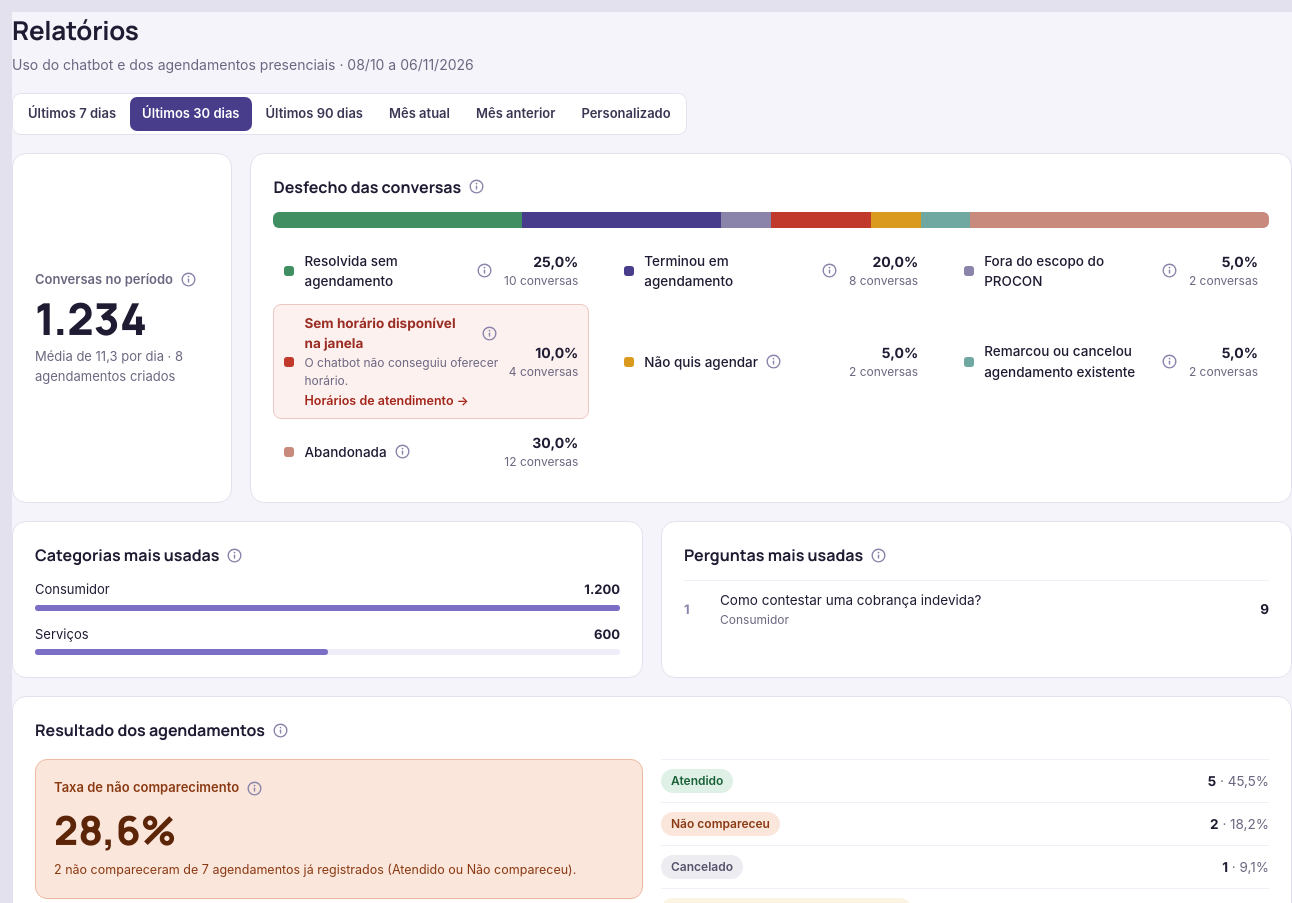
Reports: cartão Conversas no período › explica o que é uma conversa em um tooltip
This screenshot has width=1292, height=903.
Expected: the heading "Desfecho das conversas" is shown, [274,176,486,198]
Click the button named "Definição de conversas no período" at (188, 279), box [179,272,198,287]
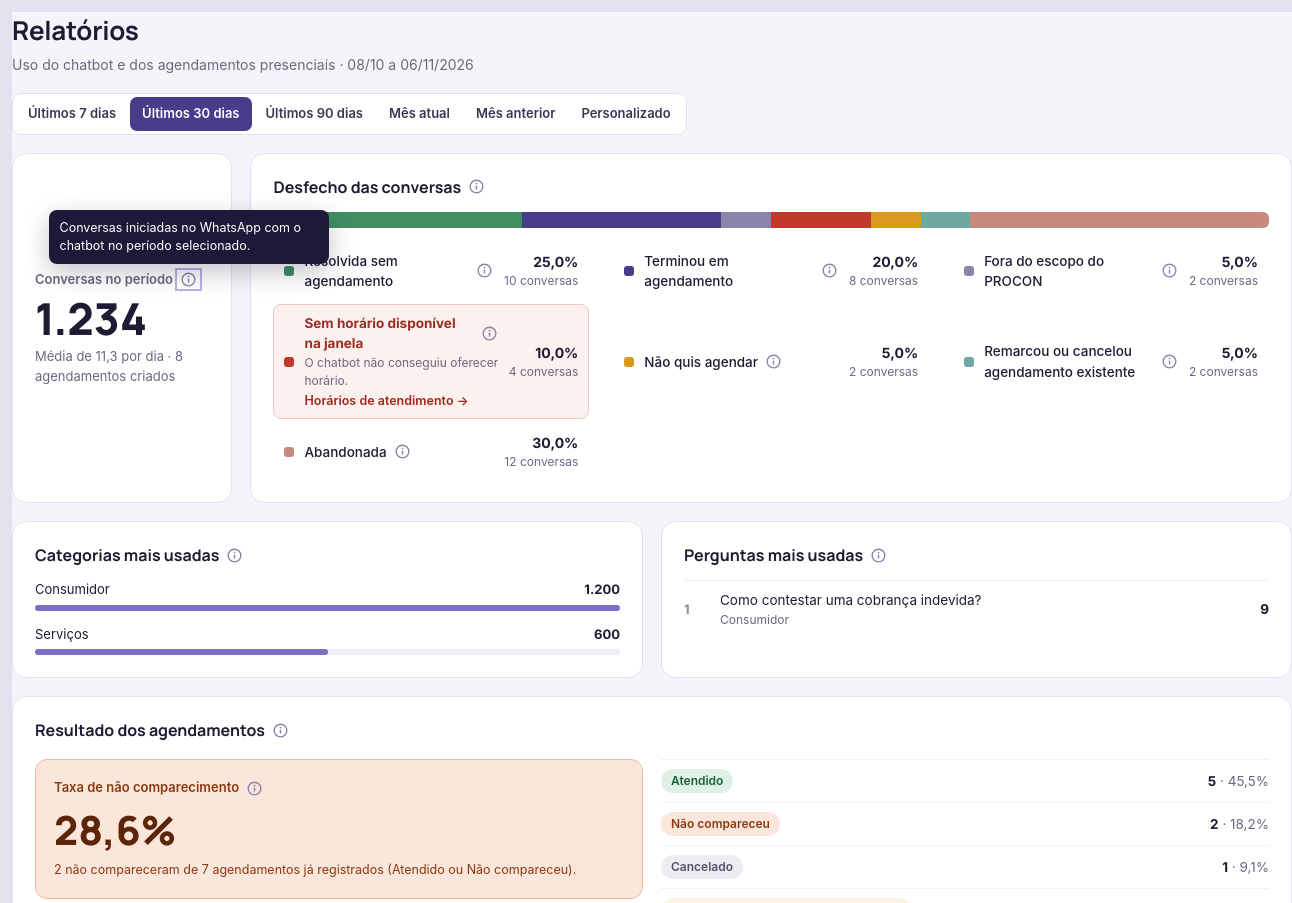
Result: the tooltip reads "Conversas iniciadas no WhatsApp com o chatbot no período selecionado." at [60,220,301,253]
